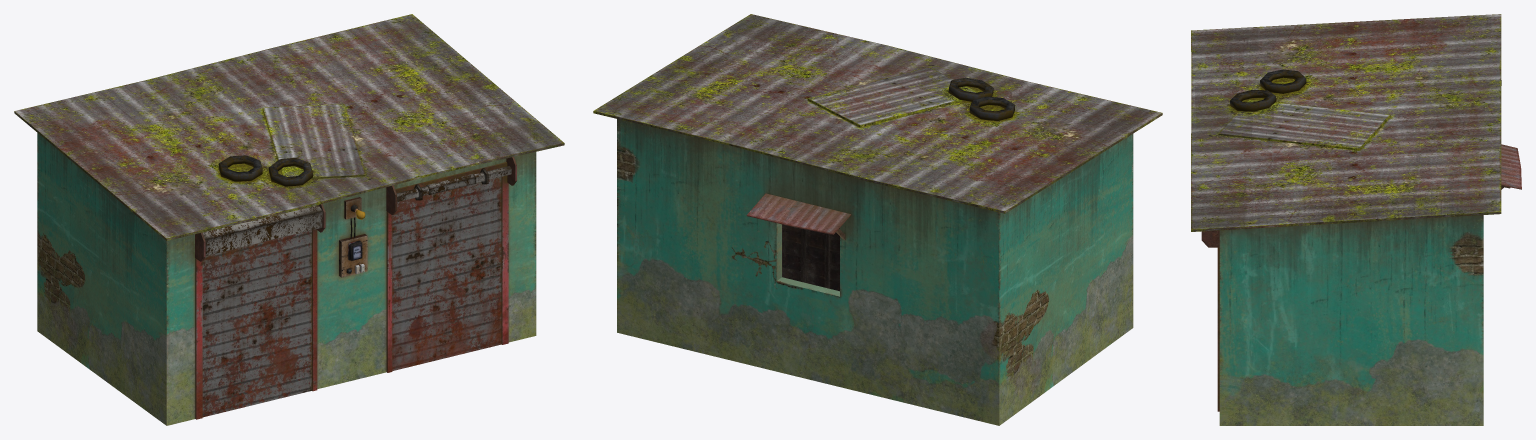
File: indian_village_kirana_shop__game-ready_3d_asset.glb
3 views of the same model, side by side, from view 1: azimuth 30°, elevation 25°; view 2: azimuth 150°, elevation 25°; view 3: azimuth 270°, elevation 25° (orthographic). The views are drawn at different scales.
Parts seen in each view (by area): view 1: building_026; view 2: building_026; view 3: building_026.
Part boxes in pixels (x1=…): building_026: x1=14, y1=14, x2=564, y2=425; building_026: x1=593, y1=14, x2=1162, y2=425; building_026: x1=1191, y1=14, x2=1521, y2=425.
Size of the model in its own units: 520 by 271 by 367.
Materials: 1 (1 with a texture image).
